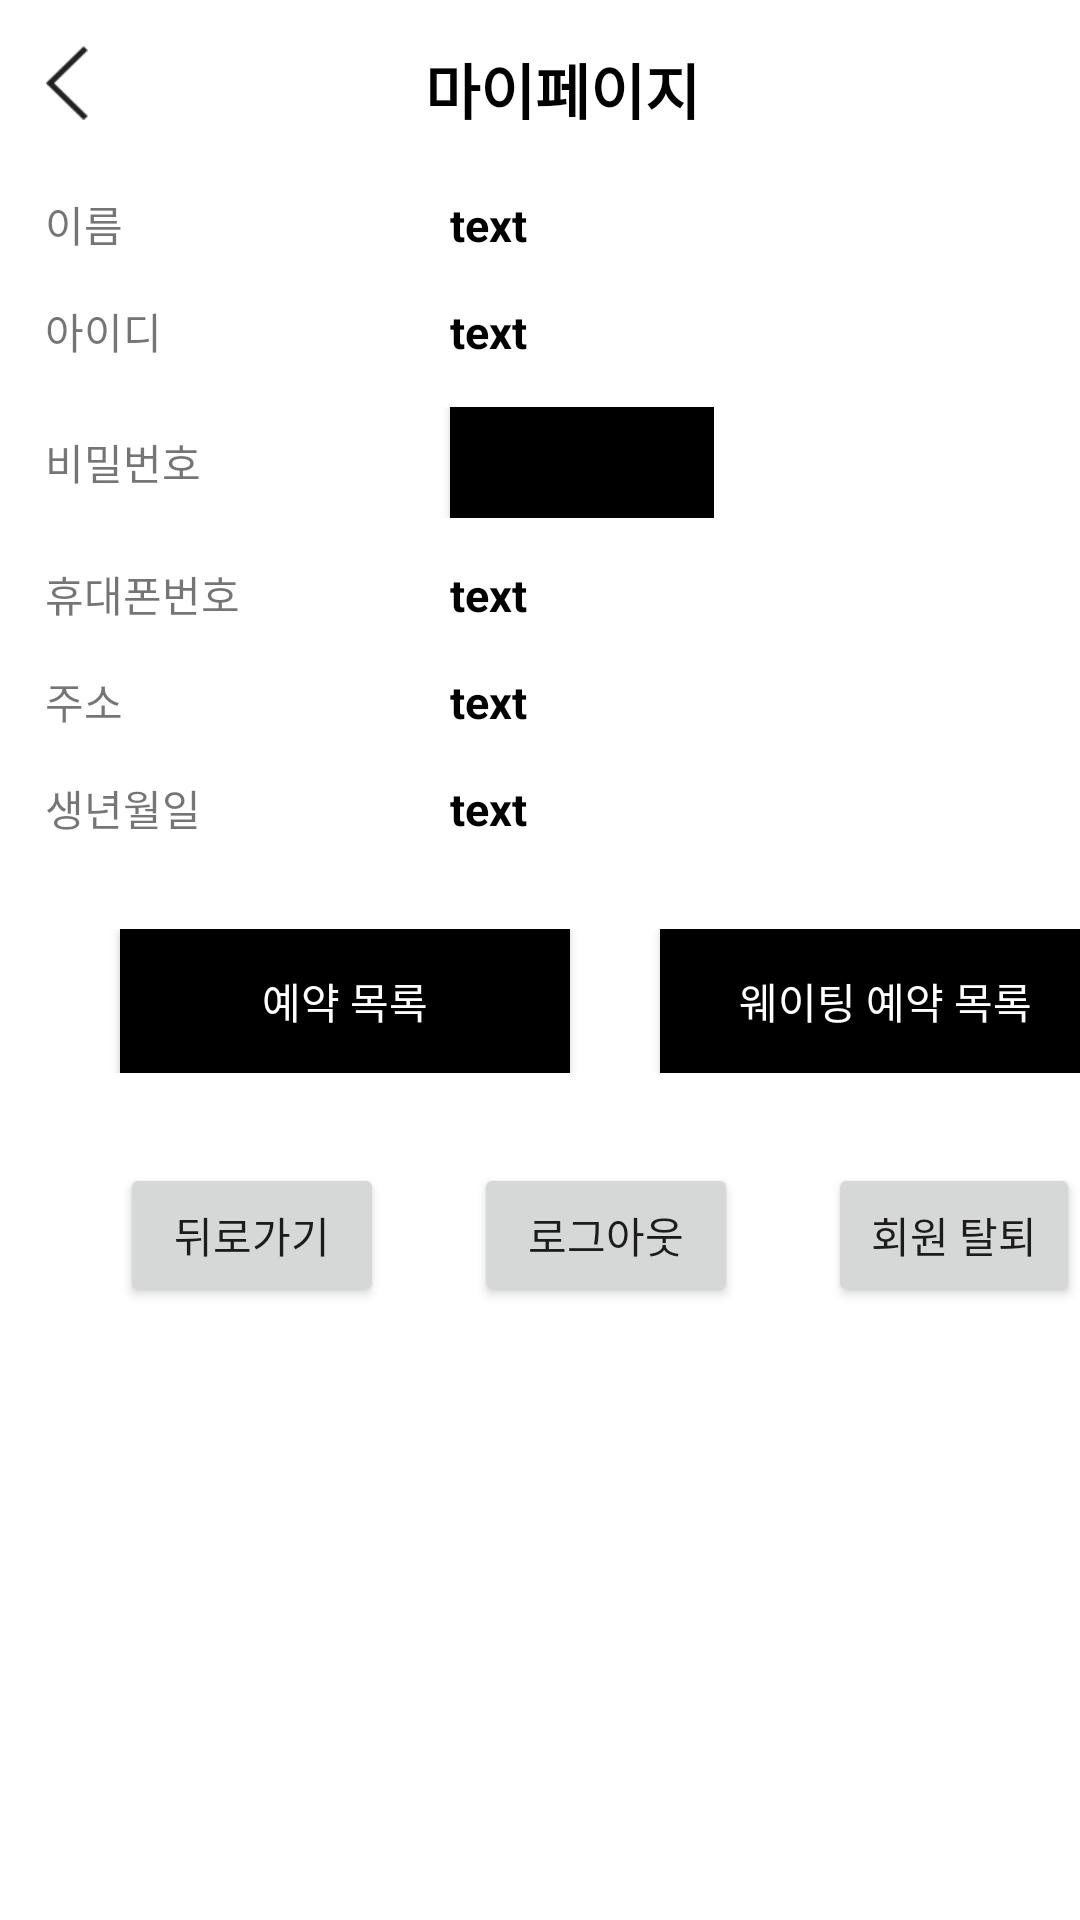

Icon click points for this 1080px×1920px phone screenshot, format (x,y):
arrow: (67,83)
